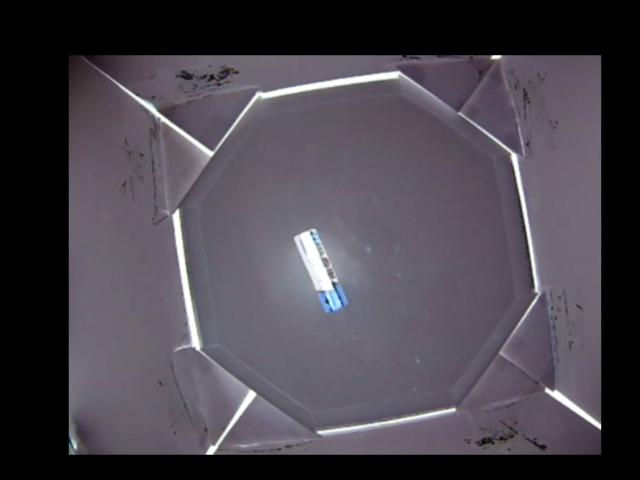Battery: (294, 229, 349, 313)
